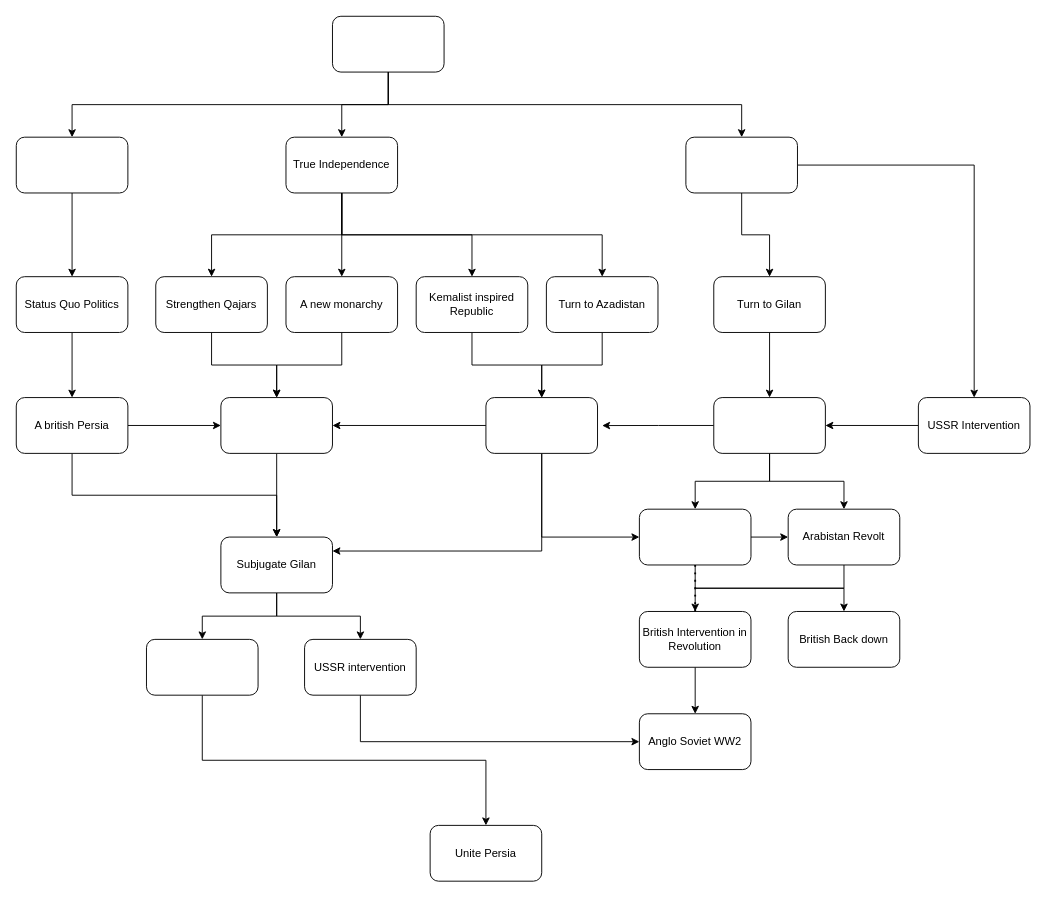
The diagram is 1046 pixels wide and 897 high, and some of its shapes have lost their labels. Each missing label, with the centre of its shape:
"Continue British Occupation" goes at point (71, 164).
"Direction of the Nation" goes at point (388, 43).
"Iranian Revolution" goes at point (769, 425).
"Overthrow the Monarchy" goes at point (541, 425).
"Subjugate Azadistan" goes at point (276, 425).
"Turn to USSR" goes at point (741, 164).
"USSR backsdown" goes at point (202, 666).
"West Baloch Revolt" goes at point (694, 536).
